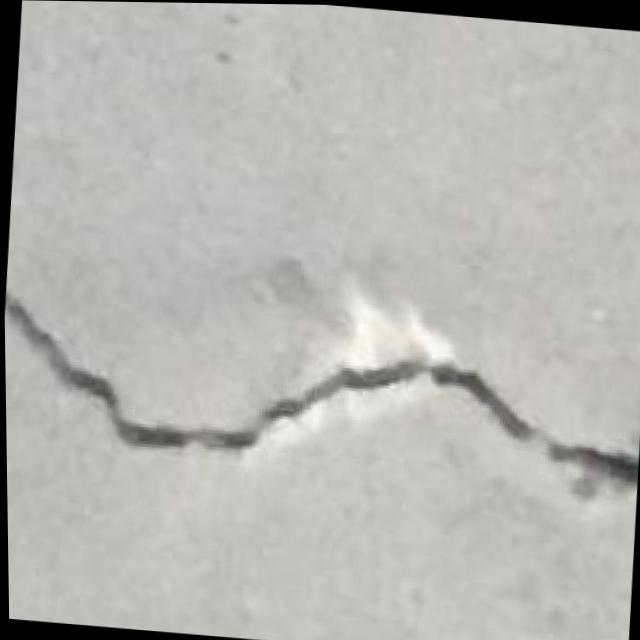Crack: (3, 277, 640, 514)
